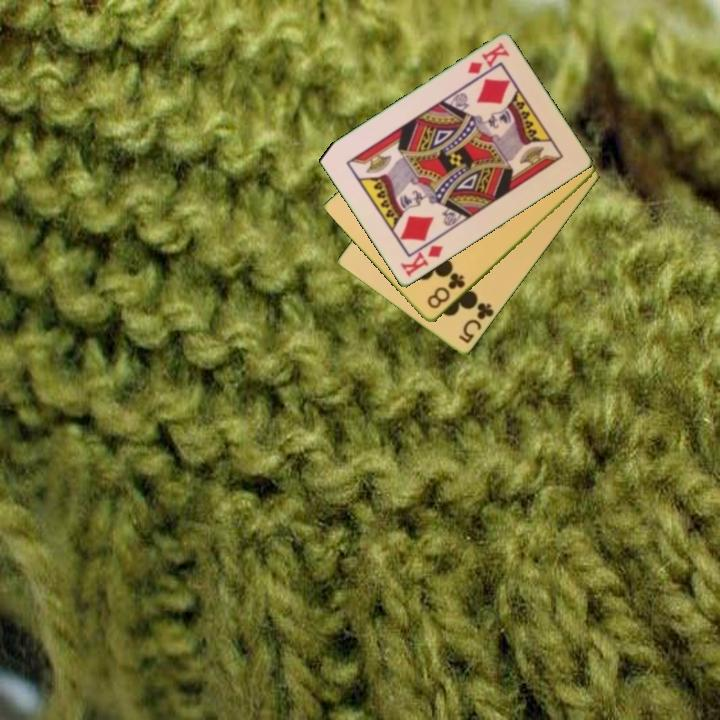5c: (455, 299, 497, 347)
8c: (424, 269, 468, 312)
Kd: (397, 242, 446, 280), (463, 39, 512, 77)
